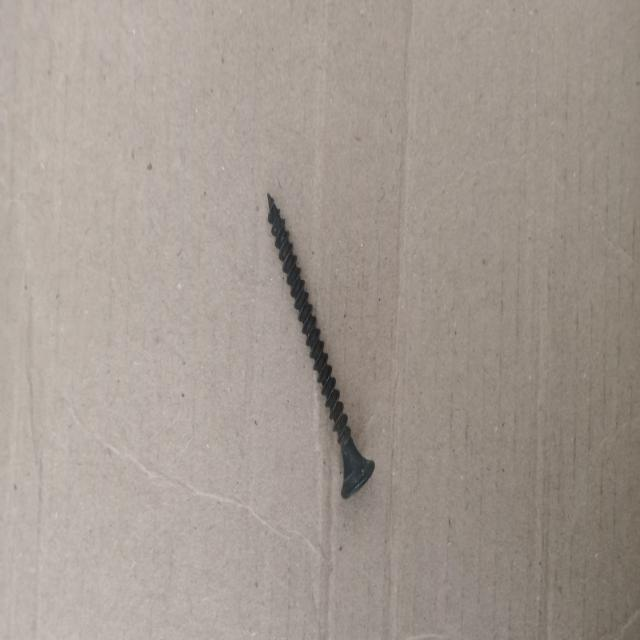screw: (266, 190, 376, 502)
